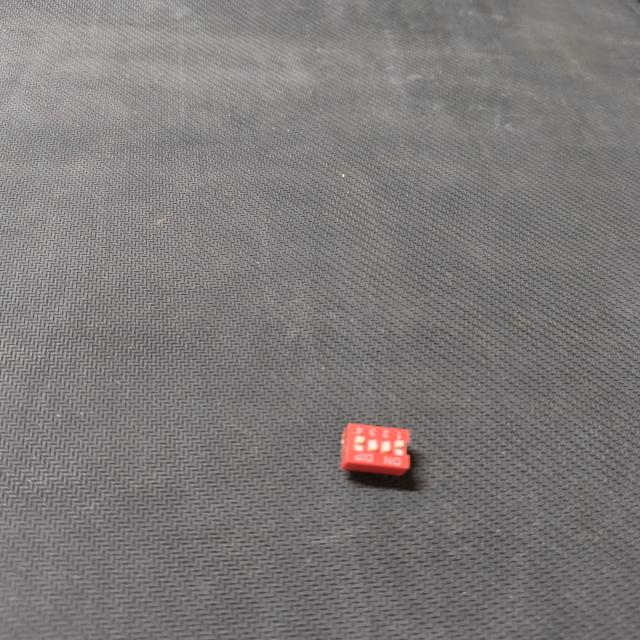switch: (329, 416, 423, 481)
